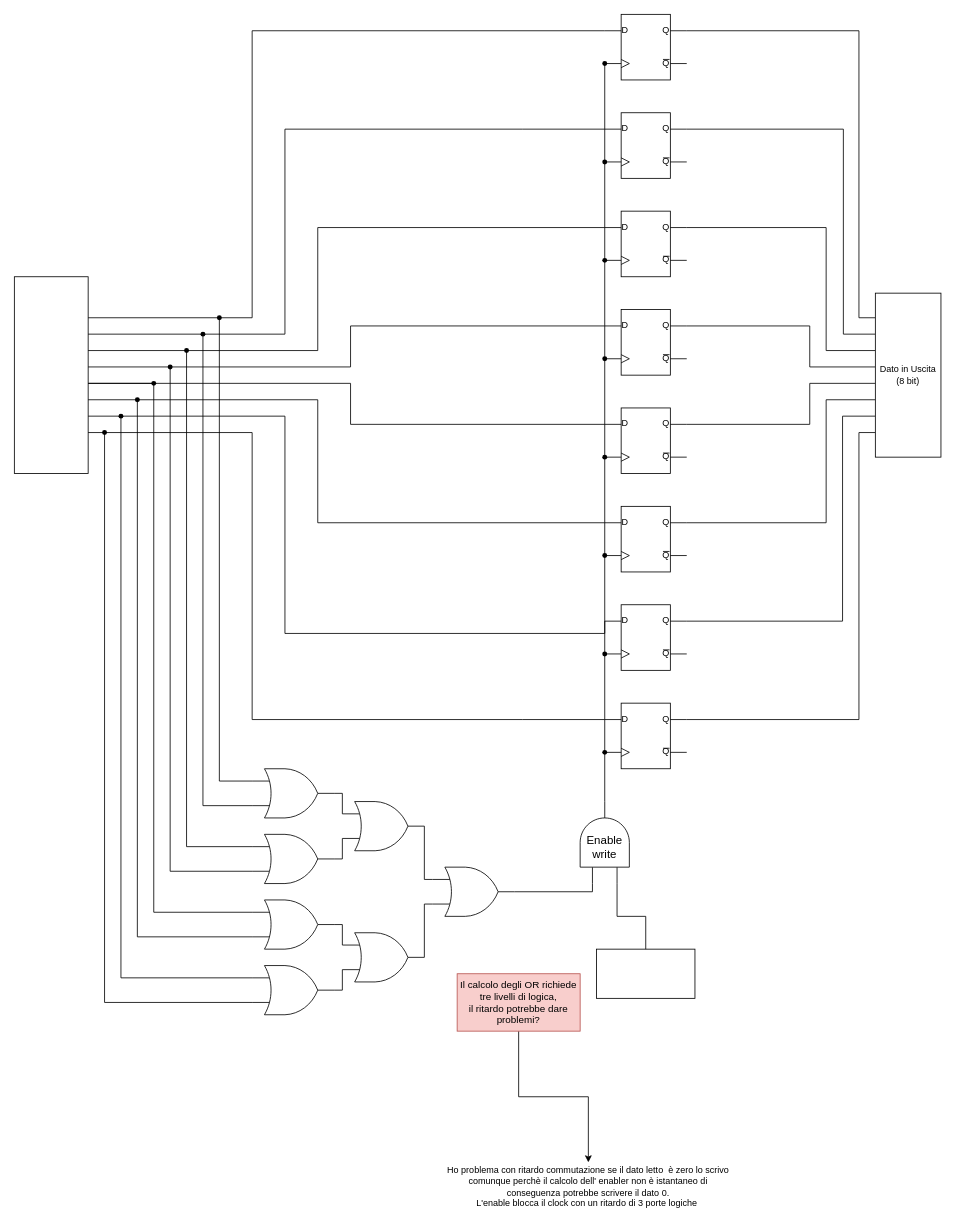
This 955x1226 diagram has some shape labels left out. Each missing label, with the box of its shape:
Clock: (596, 948, 695, 998)
Dato letto dalla memoria (8 bit): (14, 276, 88, 474)
